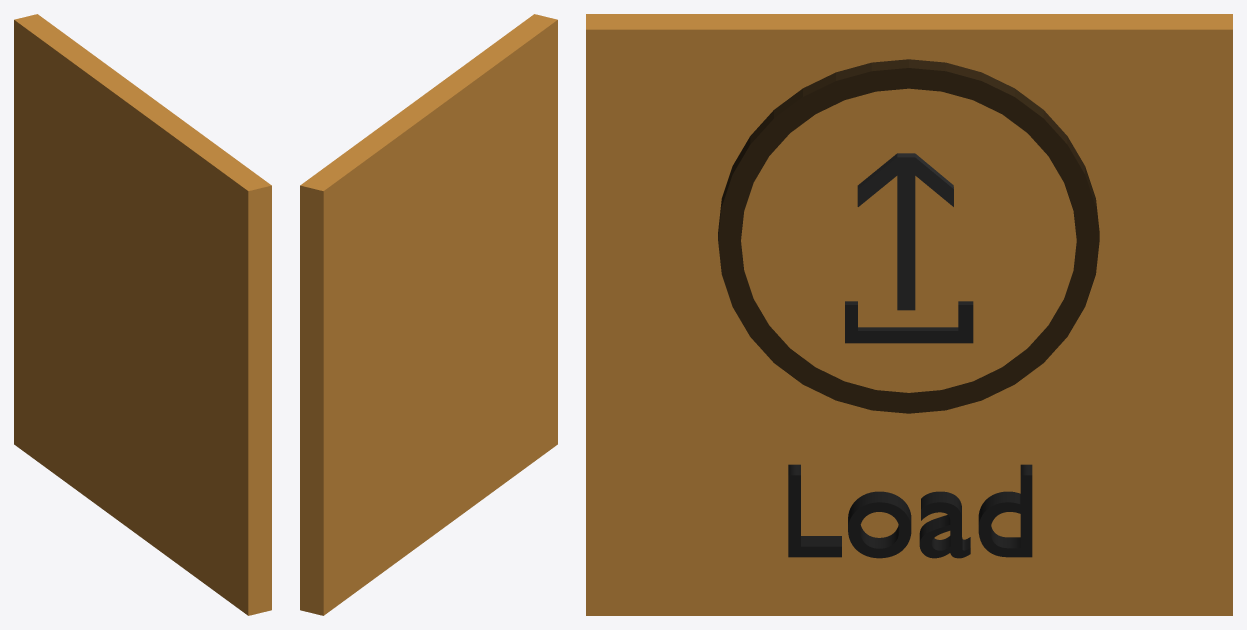
Rendered from Loadbutton.fbx.
3 views of the same model, side by side, from view 1: azimuth 30°, elevation 25°; view 2: azimuth 150°, elevation 25°; view 3: azimuth 270°, elevation 25° (orthographic). The views are drawn at different scales.
Visible parts, largest first — view 1: Setting Button.000; view 2: Setting Button.000; view 3: Setting Button.000, Cylinder.001, S.000, Cube.001, Cube.002.
Part boxes in pixels (box(x1,y1,x2,y2)): Setting Button.000: box(14, 14, 271, 615); Setting Button.000: box(300, 14, 557, 615); Setting Button.000: box(586, 14, 1232, 615); Cylinder.001: box(718, 59, 1099, 413); S.000: box(788, 464, 1032, 558); Cube.001: box(857, 153, 953, 310); Cube.002: box(845, 301, 973, 343).
Bounding box in the file's own units: 27.39 × 262 × 262.
